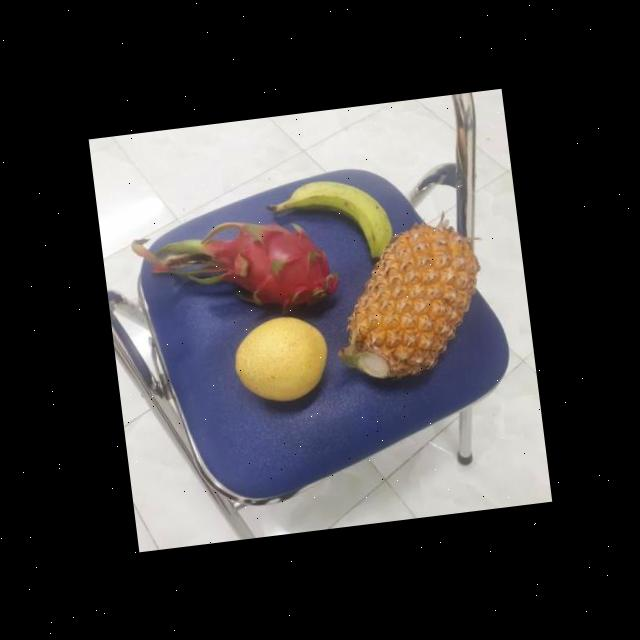banana: (276, 172, 400, 270)
pear: (228, 312, 338, 409)
pineapple: (330, 222, 490, 386)
pitaya: (208, 211, 344, 326)
